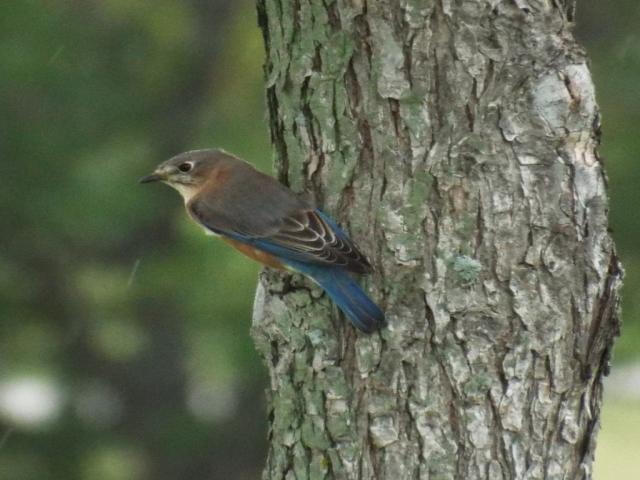Bird: (141, 149, 389, 335)
